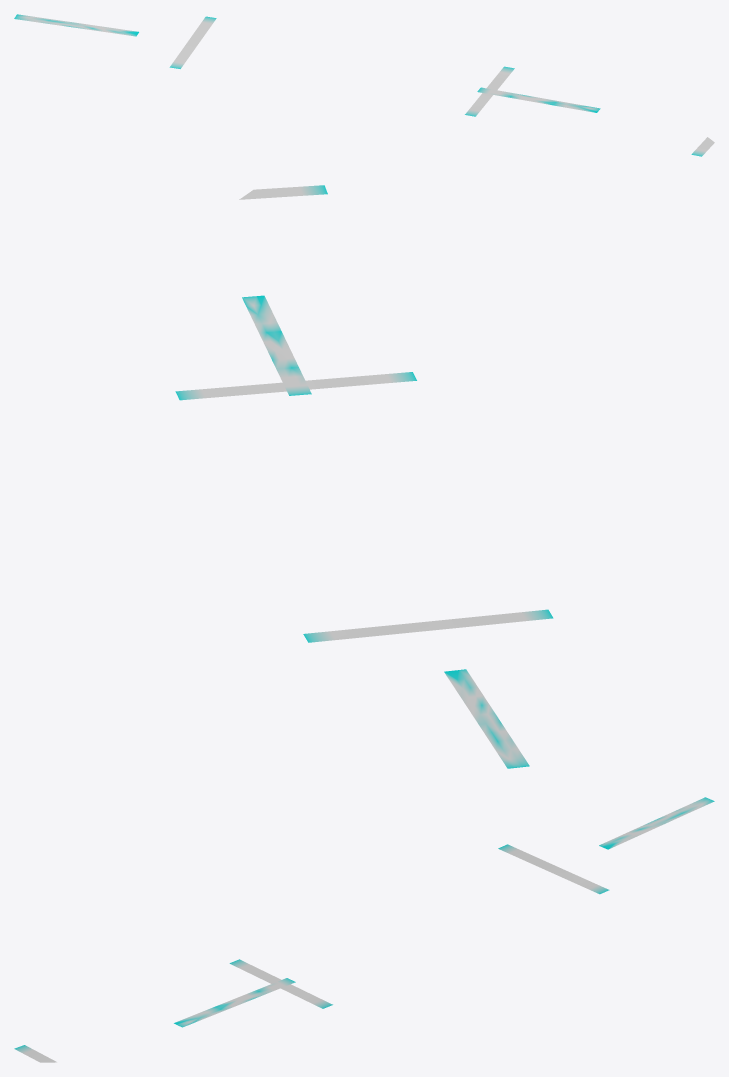
The picture shows the model from 3 angles, top to bottom: view 1: azimuth 30°, elevation 25°; view 2: azimuth 150°, elevation 25°; view 3: azimuth 270°, elevation 25°; orthographic projection. The views are drawn at different scales.
Visible parts, largest first — view 1: SpaceCenter_Long3_GenerateRoad_Asphalt_PCGMesh_Decal_Mesh_x8; view 2: SpaceCenter_Long3_GenerateRoad_Asphalt_PCGMesh_Decal_Mesh_x8; view 3: SpaceCenter_Long3_GenerateRoad_Asphalt_PCGMesh_Decal_Mesh_x8.
Boxes of the visible parts, <box> form: SpaceCenter_Long3_GenerateRoad_Asphalt_PCGMesh_Decal_Mesh_x8: <box>14,14,714,156</box>; SpaceCenter_Long3_GenerateRoad_Asphalt_PCGMesh_Decal_Mesh_x8: <box>175,185,553,768</box>; SpaceCenter_Long3_GenerateRoad_Asphalt_PCGMesh_Decal_Mesh_x8: <box>14,797,714,1062</box>.
Bounding box in the file's own units: 1850 × 1511 × 68.9.
